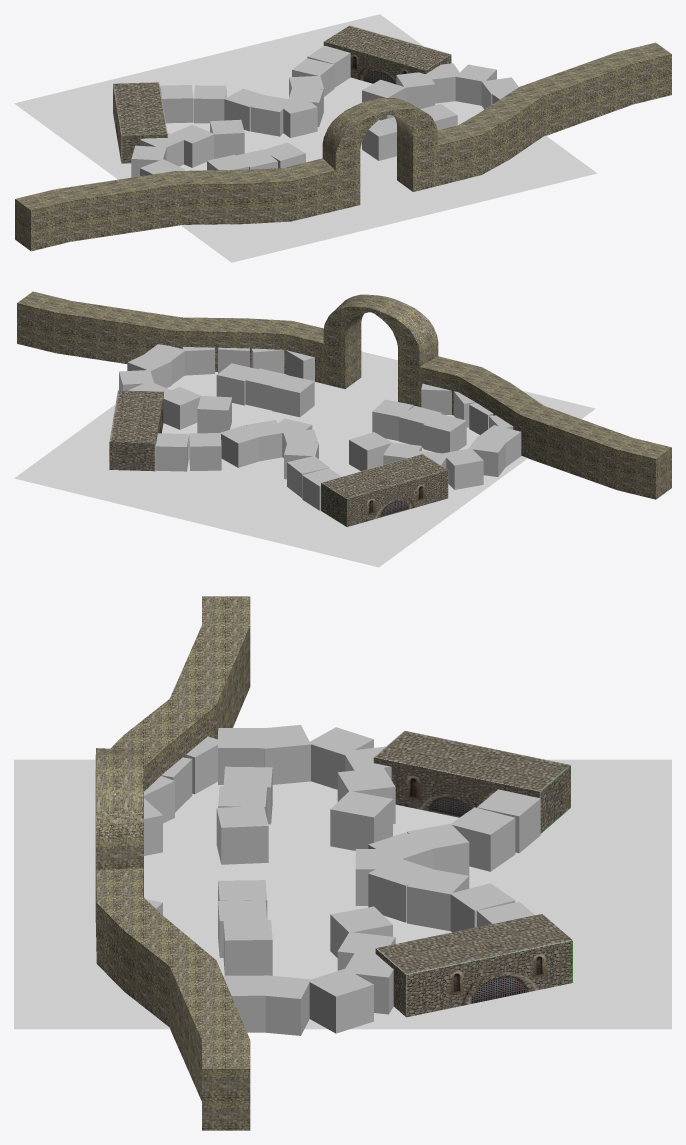
3 views of the same model, one above another, from view 1: azimuth 30°, elevation 25°; view 2: azimuth 150°, elevation 25°; view 3: azimuth 270°, elevation 25° (orthographic). The views are drawn at different scales.
Parts seen in each view (by area): view 1: Box001, Plane001, smallgate1, smallgate2, house1, house2, house4, house011, house5, house034, house010, house024 (+16 smaller); view 2: Box001, Plane001, smallgate2, smallgate1, house034, house031, house3, house013, house022, house9, house021, house7 (+24 smaller); view 3: Plane001, Box001, smallgate1, smallgate2, house024, house010, house032, house4, house033, house025, house3, house014 (+23 smaller).
Boxes of the visible parts, bbox=[...] form: Box001: bbox=[15, 42, 671, 251]; Plane001: bbox=[14, 14, 597, 262]; smallgate1: bbox=[323, 25, 451, 84]; smallgate2: bbox=[113, 82, 167, 163]; house1: bbox=[275, 97, 317, 137]; house2: bbox=[160, 85, 193, 123]; house4: bbox=[194, 85, 226, 123]; house011: bbox=[171, 124, 213, 167]; house5: bbox=[251, 95, 286, 136]; house034: bbox=[362, 118, 396, 160]; house010: bbox=[210, 119, 244, 158]; house024: bbox=[455, 64, 496, 105]; Box001: bbox=[17, 291, 671, 499]; Plane001: bbox=[14, 351, 595, 567]; smallgate2: bbox=[321, 454, 448, 526]; smallgate1: bbox=[109, 390, 163, 471]; house034: bbox=[272, 375, 314, 417]; house031: bbox=[423, 414, 466, 453]; house3: bbox=[220, 425, 262, 467]; house013: bbox=[443, 448, 483, 489]; house022: bbox=[163, 387, 200, 429]; house9: bbox=[155, 433, 188, 471]; house021: bbox=[197, 396, 231, 433]; house7: bbox=[189, 433, 221, 470]; Plane001: bbox=[14, 759, 671, 1029]; Box001: bbox=[95, 596, 250, 1130]; smallgate1: bbox=[375, 914, 572, 1017]; smallgate2: bbox=[373, 730, 570, 833]; house024: bbox=[308, 968, 373, 1033]; house010: bbox=[330, 791, 392, 850]; house032: bbox=[216, 806, 268, 864]; house4: bbox=[451, 807, 515, 871]; house033: bbox=[223, 919, 272, 975]; house025: bbox=[255, 975, 310, 1035]; house3: bbox=[407, 869, 469, 931]; house014: bbox=[255, 725, 310, 784].
Size of the model in its own units: 164 by 21.51 by 96.79.
